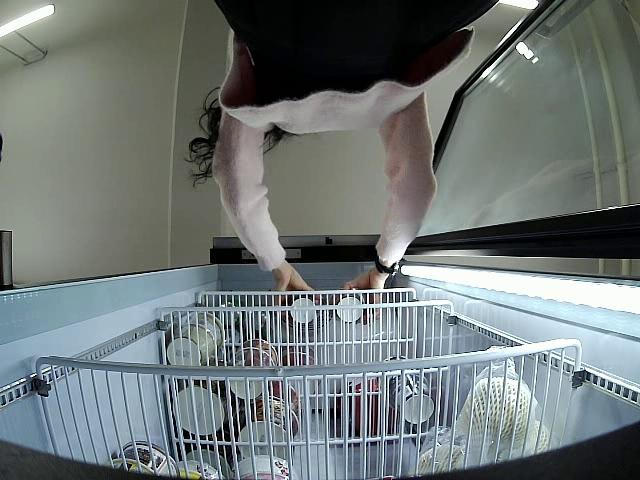00_hand: (345, 271, 383, 322), (270, 269, 311, 291)
